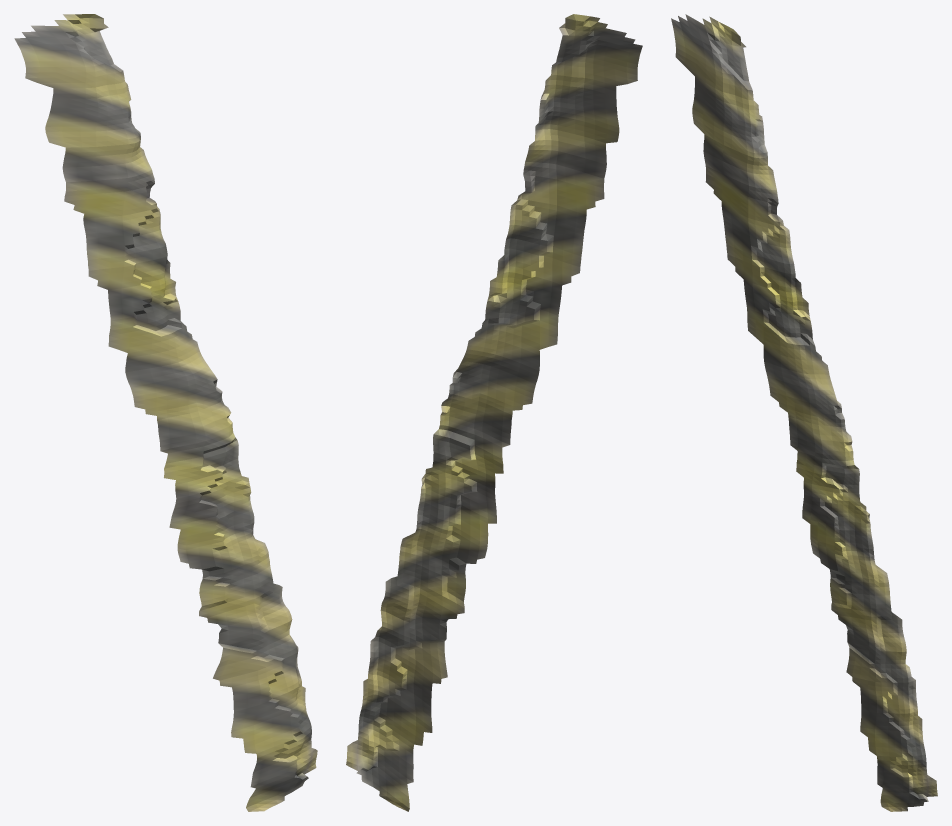
The model's file is entity-floor-marking-27.glb.
3 renders of one model, left to right at view 1: azimuth 30°, elevation 25°; view 2: azimuth 150°, elevation 25°; view 3: azimuth 330°, elevation 25°, orthographic. The views are drawn at different scales.
Visible parts, largest first — view 1: geometry_0; view 2: geometry_0; view 3: geometry_0.
Boxes of the visible parts, bbox=[...] form: geometry_0: bbox=[14, 14, 317, 811]; geometry_0: bbox=[346, 14, 642, 811]; geometry_0: bbox=[671, 14, 937, 811].
Bounding box in the file's own units: 0.6389 × 1.72 × 0.0594.
